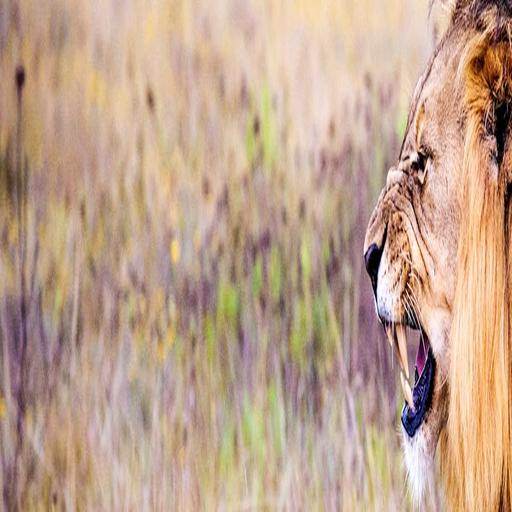Lion: (352, 0, 512, 512)
